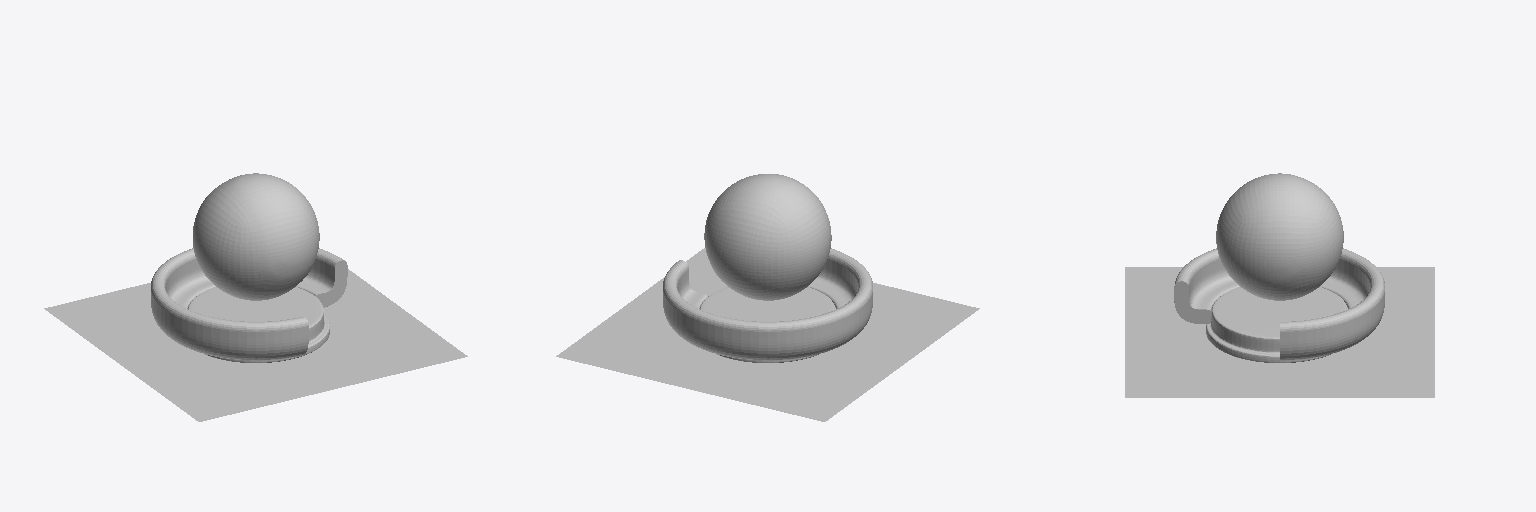
File: core_base_floor.obj
3 views of the same model, side by side, from view 1: azimuth 30°, elevation 25°; view 2: azimuth 150°, elevation 25°; view 3: azimuth 270°, elevation 25° (orthographic).
Parts seen in each view (by area): view 1: core1:core1:shader_ballstandard_shader_b; view 2: core1:core1:shader_ballstandard_shader_b; view 3: core1:core1:shader_ballstandard_shader_b.
Boxes of the visible parts, box(x1,y1,x2,y2) form: core1:core1:shader_ballstandard_shader_b: box(44, 173, 467, 421); core1:core1:shader_ballstandard_shader_b: box(556, 174, 979, 421); core1:core1:shader_ballstandard_shader_b: box(1125, 173, 1434, 397).
Bounding box in the file's own units: 13.12 × 7.14 × 13.12.